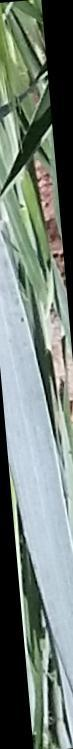Potato: (3, 266, 67, 653)
